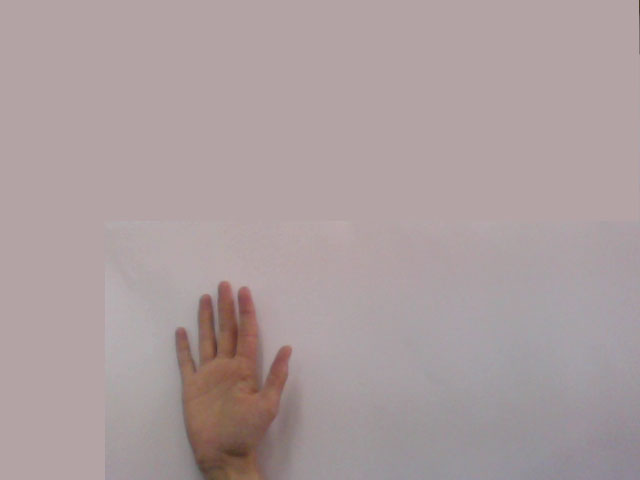hand: (162, 269, 297, 454)
